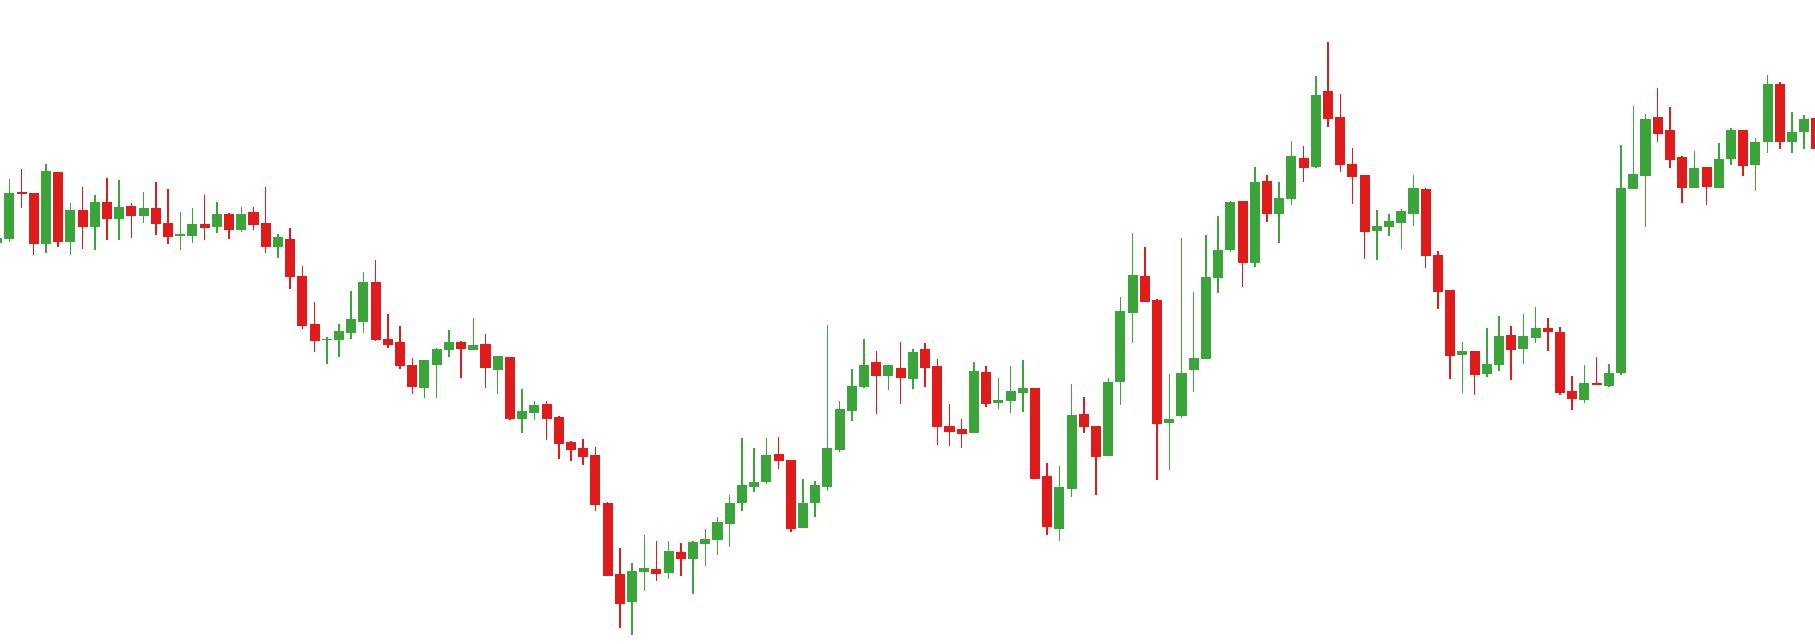buy: (782, 405, 1066, 548), (1455, 337, 1592, 414)
